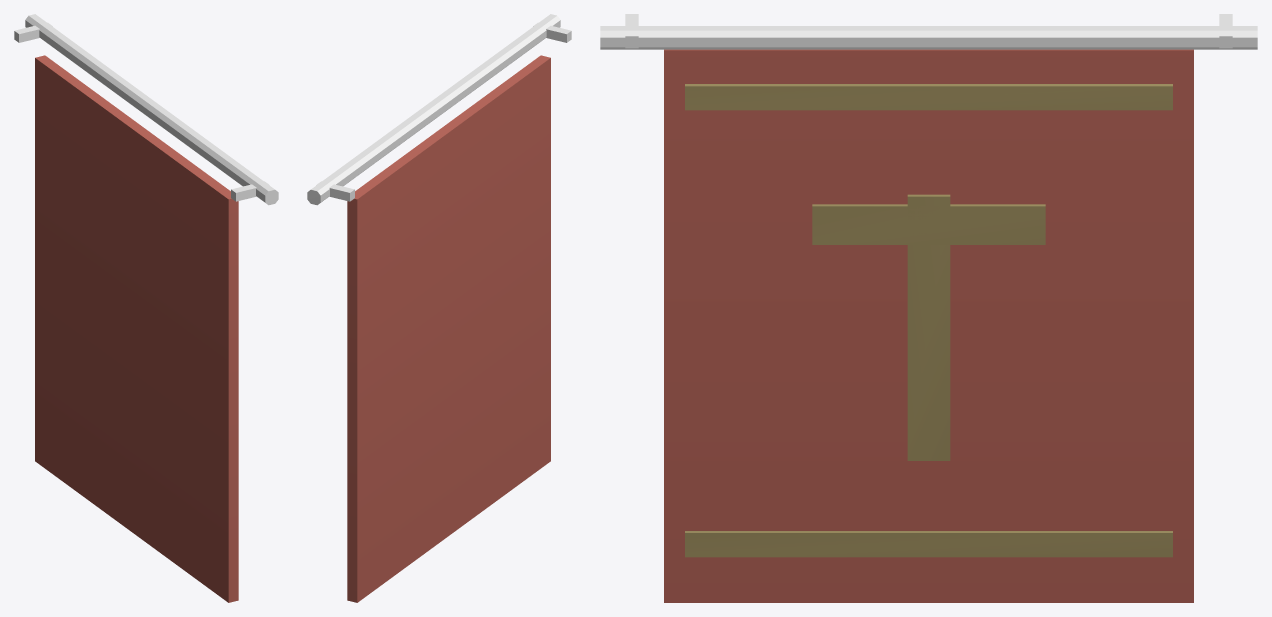
The model's file is tavern_tapestry.glb.
3 views of the same model, side by side, from view 1: azimuth 30°, elevation 25°; view 2: azimuth 150°, elevation 25°; view 3: azimuth 270°, elevation 25° (orthographic). The views are drawn at different scales.
Parts seen in each view (by area): view 1: tapestry; view 2: tapestry; view 3: tapestry.
Boxes of the visible parts, x1,y1,x2,y2 form: tapestry: [14, 14, 278, 602]; tapestry: [307, 14, 571, 602]; tapestry: [600, 14, 1257, 602].
Bounding box in the file's own units: 0.1 × 1.21 × 1.24.
